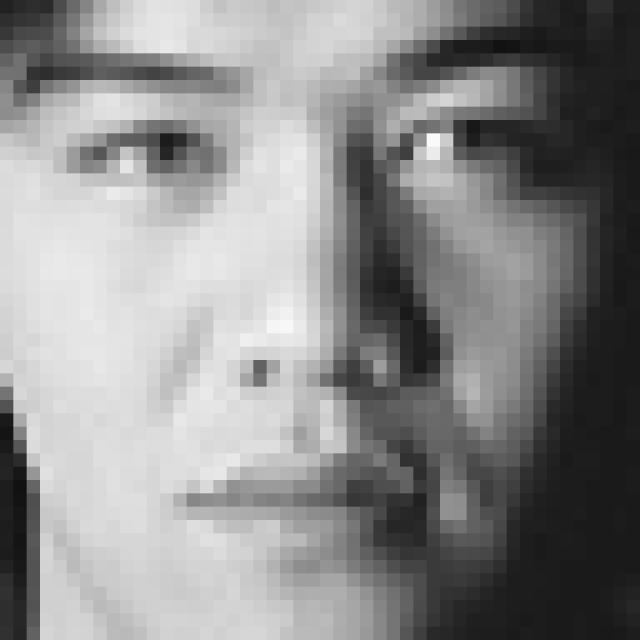neutral: (15, 22, 572, 583)
